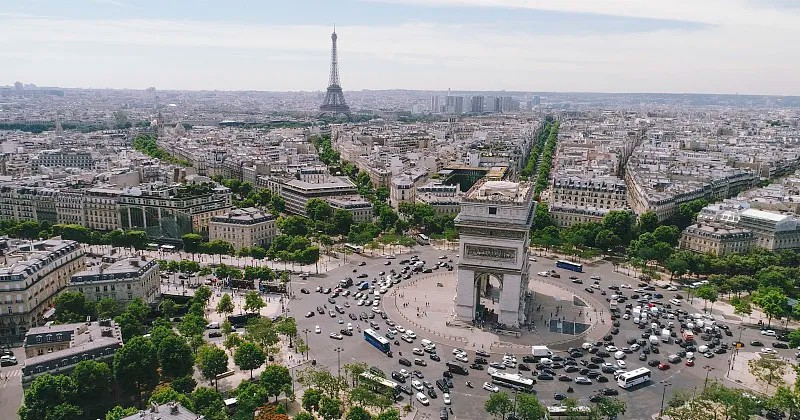Eiffel: (317, 21, 354, 122)
